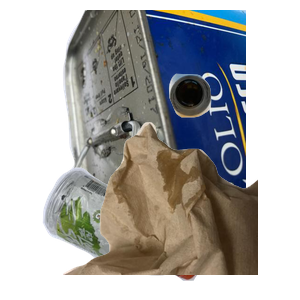glass: (166, 71, 300, 181)
metal: (60, 10, 300, 190)
plastic: (40, 165, 235, 300)
trash: (60, 120, 300, 300)
